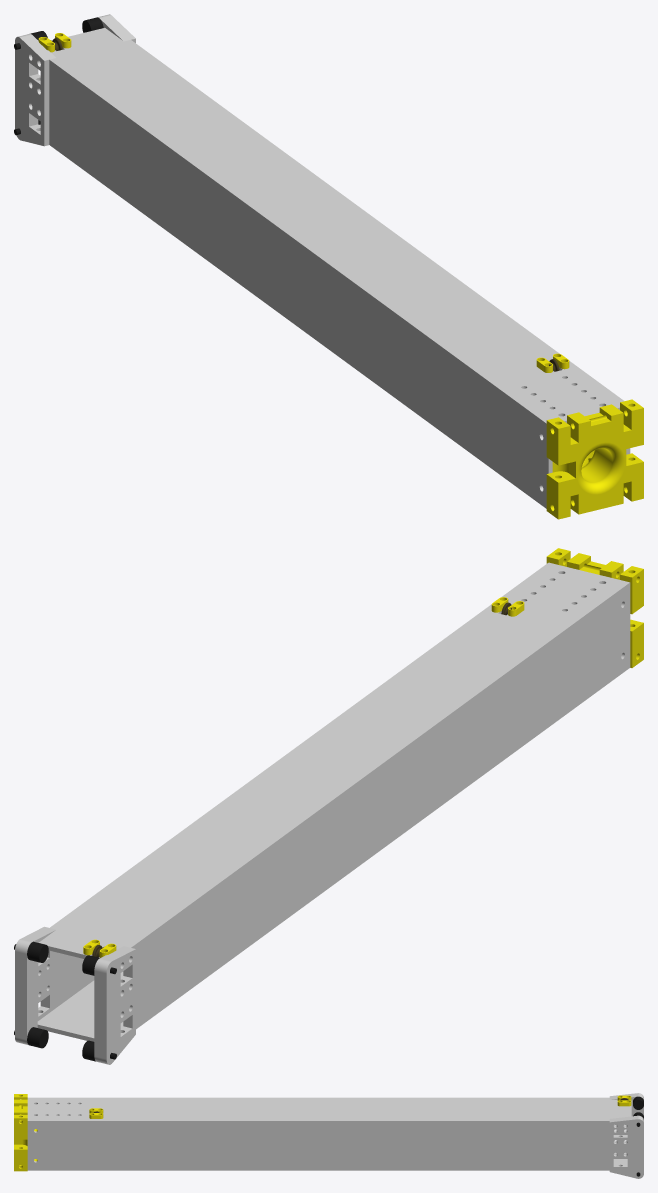
The picture shows the model from 3 angles, top to bottom: view 1: azimuth 30°, elevation 25°; view 2: azimuth 150°, elevation 25°; view 3: azimuth 270°, elevation 25°; orthographic projection. The views are drawn at different scales.
Visible parts, largest first — view 1: MIDDLE, MID TUUB TAIL BLOCK, RIGHT; view 2: MIDDLE, RIGHT, MID TUUB TAIL BLOCK, LEFT; view 3: MIDDLE, LEFT, MID TUUB TAIL BLOCK, RIGHT.
Part boxes in pixels (<box>): MIDDLE: <box>34,28,630,508</box>; MID TUUB TAIL BLOCK: <box>546,399,643,519</box>; RIGHT: <box>15,34,55,146</box>; MIDDLE: <box>37,562,630,1041</box>; RIGHT: <box>94,946,135,1064</box>; MID TUUB TAIL BLOCK: <box>546,548,643,667</box>; LEFT: <box>15,926,55,1045</box>; MIDDLE: <box>27,1097,631,1170</box>; LEFT: <box>609,1115,643,1178</box>; MID TUUB TAIL BLOCK: <box>14,1094,37,1171</box>; RIGHT: <box>609,1093,643,1141</box>.
Bounding box in the file's own units: 0.0778 × 0.0769 × 0.7287.
